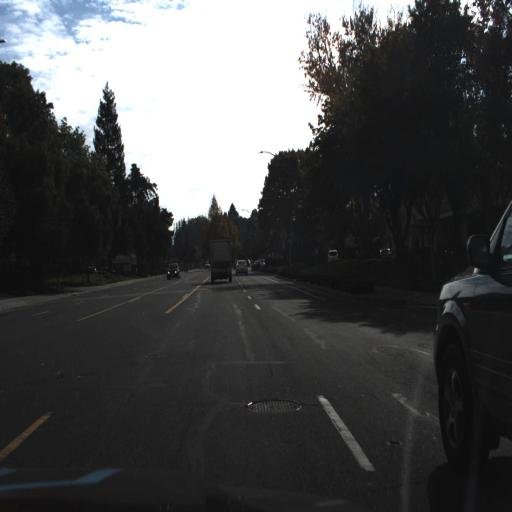car: (436, 197, 511, 496), (209, 233, 237, 288), (233, 255, 249, 278), (167, 262, 180, 280), (324, 244, 338, 260)
truck: (207, 229, 235, 288)
